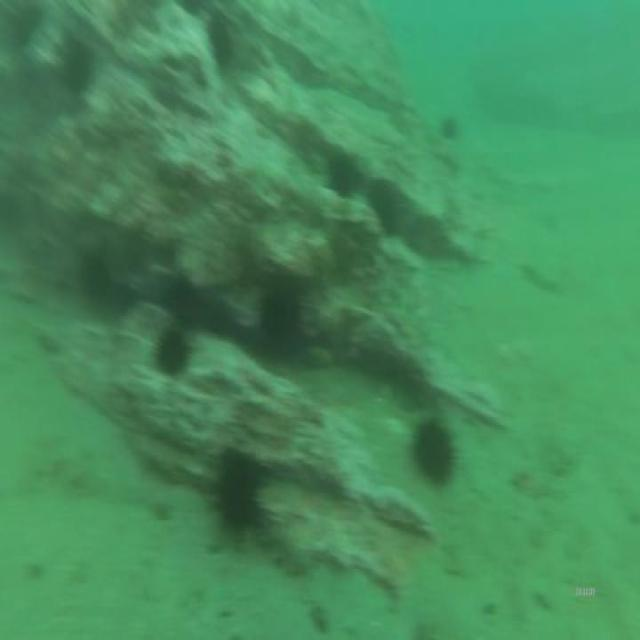echinus: (253, 268, 307, 364), (214, 438, 262, 545), (150, 313, 203, 387), (414, 411, 456, 498), (61, 27, 92, 93), (207, 6, 233, 68), (329, 140, 355, 198), (376, 179, 396, 240)
